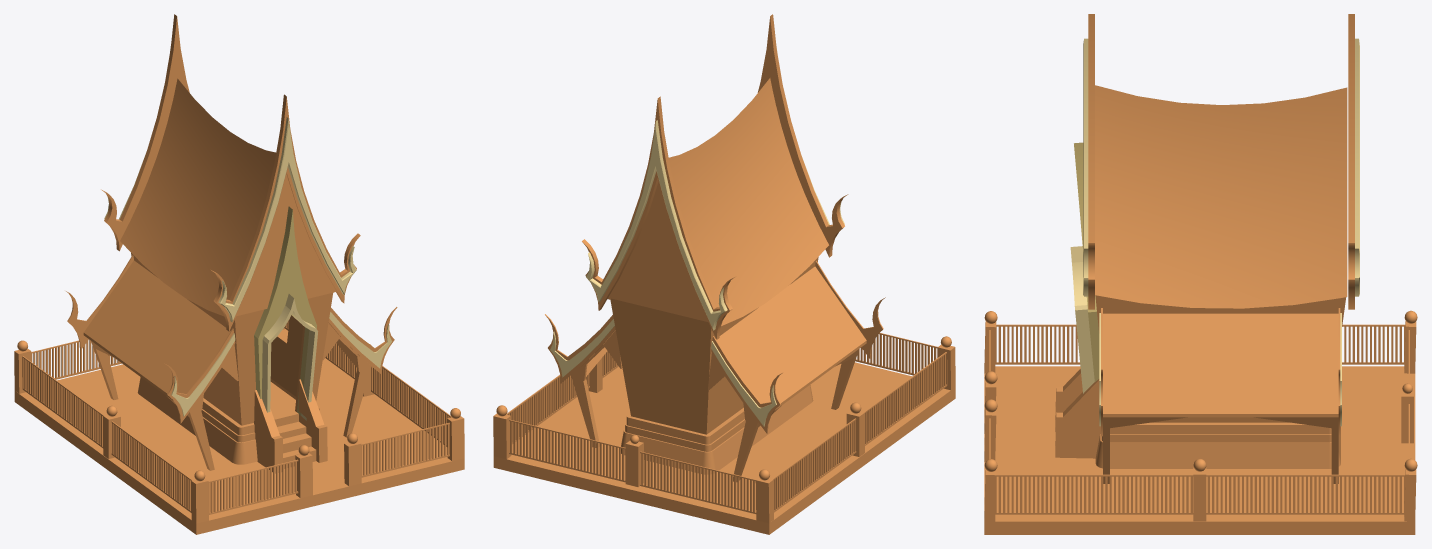
Rendered from cal001.glb.
3 views of the same model, side by side, from view 1: azimuth 30°, elevation 25°; view 2: azimuth 150°, elevation 25°; view 3: azimuth 270°, elevation 25° (orthographic). The views are drawn at different scales.
Visible parts, largest first — view 1: Part5[17], Part284[2513], Part54[304], Part42[143], Part58[322], Part3[111], Part38[123], Part3[8], Part62[339], Part67[402], Part285[2516], Part67[412] (+12 smaller); view 2: Part5[17], Part284[2513], Part54[304], Part42[143], Part3[111], Part38[127], Part3[8], Part60[356], Part55[311], Part55[292], Part57[308], Part55[301] (+6 smaller); view 3: Part5[17], Part284[2513], Part54[272], Part42[143], Part67[412], Part3[8], Part3[111], Part62[339], Part38[123], Part58[322], Part38[127], Part285[2516] (+10 smaller).
Boxes of the visible parts, x1,y1,x2,y2 form: Part5[17]: (120,78,336,425); Part284[2513]: (14,329,464,534); Part54[304]: (83,260,230,400); Part42[143]: (137,377,319,464); Part58[322]: (254,206,316,415); Part3[111]: (101,14,189,251); Part38[123]: (218,117,356,321); Part3[8]: (211,94,360,331); Part62[339]: (262,294,318,420); Part67[402]: (254,390,283,473); Part285[2516]: (17,340,460,498); Part67[412]: (298,379,327,462); Part5[17]: (607,78,828,434); Part284[2513]: (493,362,955,534); Part54[304]: (716,266,866,410); Part42[143]: (621,385,813,474); Part3[111]: (582,96,734,339); Part38[127]: (586,120,727,330); Part3[8]: (757,14,848,257); Part60[356]: (571,330,615,447); Part55[311]: (711,336,782,433); Part55[292]: (545,314,615,383); Part57[308]: (711,341,776,426); Part55[301]: (815,261,885,358); Part5[17]: (1095,85,1347,422); Part284[2513]: (984,366,1415,534); Part54[272]: (1103,313,1338,417); Part42[143]: (1095,423,1340,468); Part67[412]: (1055,379,1100,458); Part3[8]: (1088,14,1094,309); Part3[111]: (1348,14,1354,309); Part62[339]: (1070,246,1094,393); Part38[123]: (1083,38,1088,296); Part58[322]: (1074,142,1099,381); Part38[127]: (1355,38,1359,296); Part285[2516]: (984,310,1417,471).
Bounding box in the file's own units: 0.00424 × 0.00564 × 0.005.
